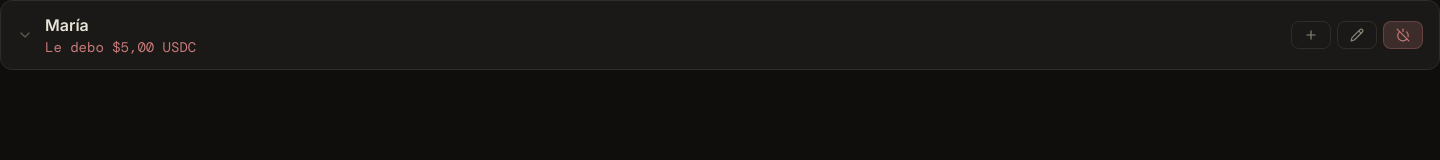
DebtorCard › hides debts until expanded
expect the text "Cena del viernes" is not shown: met
Click the button named "expandir": click(25, 35) [17, 27, 33, 43]
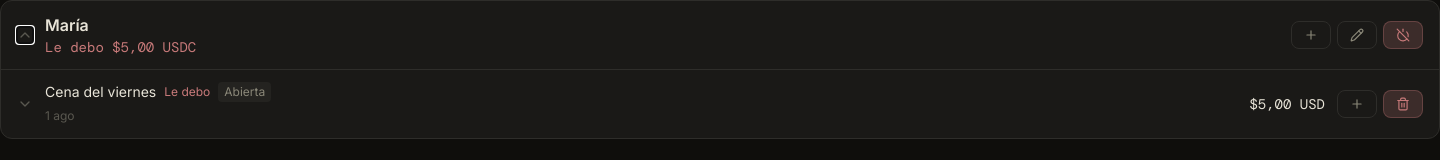
expect the text "Cena del viernes" is shown: met, box [45, 82, 156, 102]
